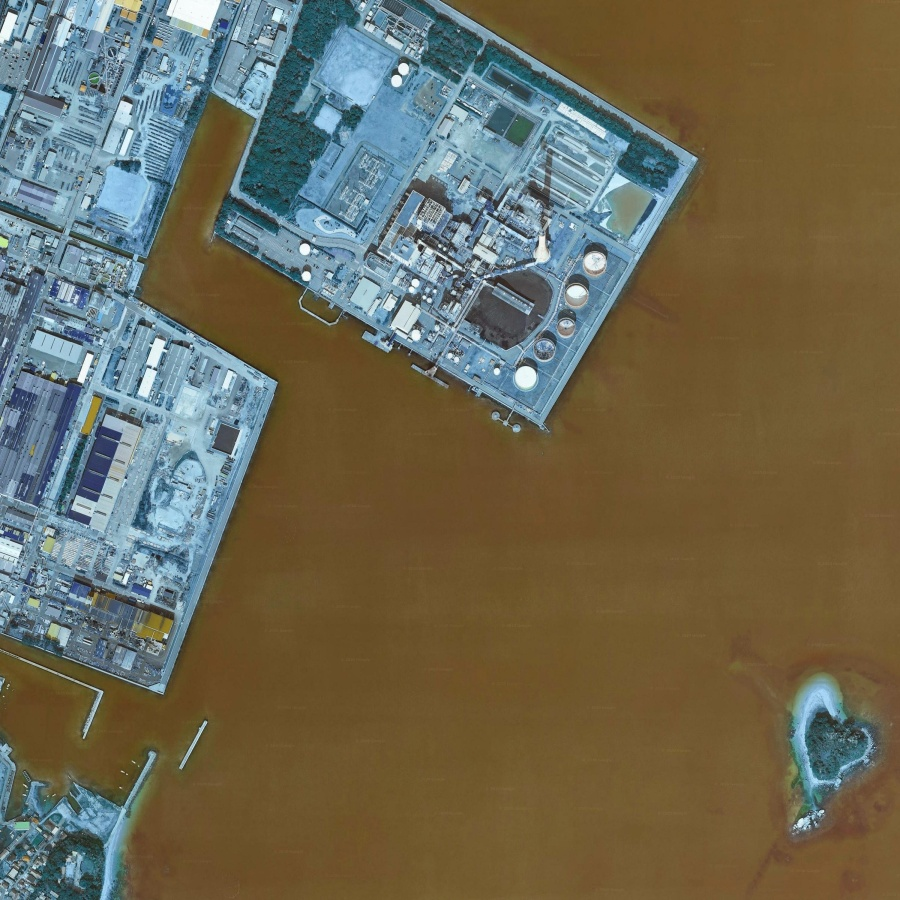PowerPlant: (293, 104, 662, 423)
